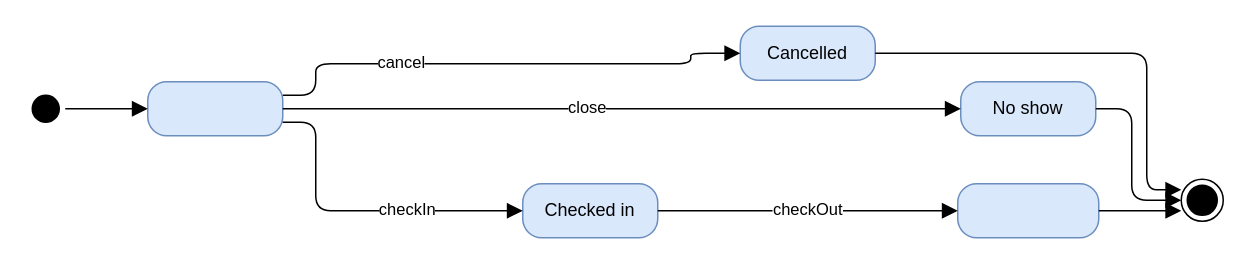
Image size: 1250x264. Some labels were removed from this diagram. The centre of each missing label's shape, as x and y in pixels:
"Checked out" belongs at (1027,210).
"Not arrived" belongs at (214,108).
